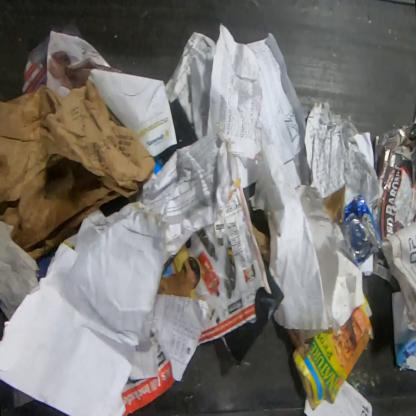cardboard: (0, 78, 157, 262), (286, 290, 375, 412), (391, 289, 415, 373), (322, 182, 346, 224), (252, 223, 270, 264)
metal: (339, 193, 383, 264)
